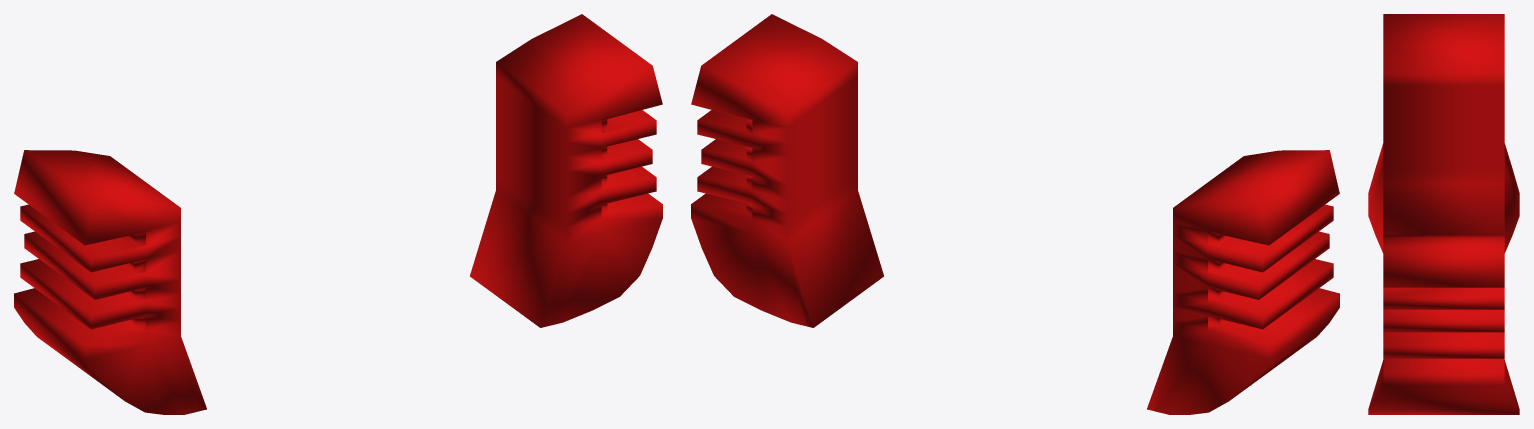
Rendered from hoverboard_rubber_red.dae.
3 renders of one model, left to right at view 1: azimuth 30°, elevation 25°; view 2: azimuth 150°, elevation 25°; view 3: azimuth 270°, elevation 25°, orthographic. The views are drawn at different scales.
Parts seen in each view (by area): view 1: Torus_001; view 2: Torus_001; view 3: Torus_001.
Part boxes in pixels (x1,y1,x2,y2): Torus_001: (14, 14, 662, 414); Torus_001: (691, 14, 1339, 414); Torus_001: (1368, 14, 1519, 414).
Size of the model in its own units: 4.26 by 1.13 by 1.65.
